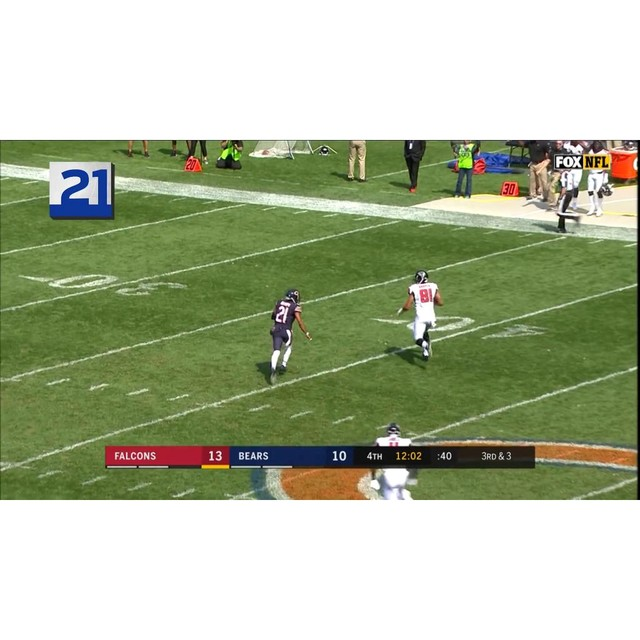american-football-player: (396, 270, 443, 363), (267, 290, 311, 383), (369, 422, 417, 499)
